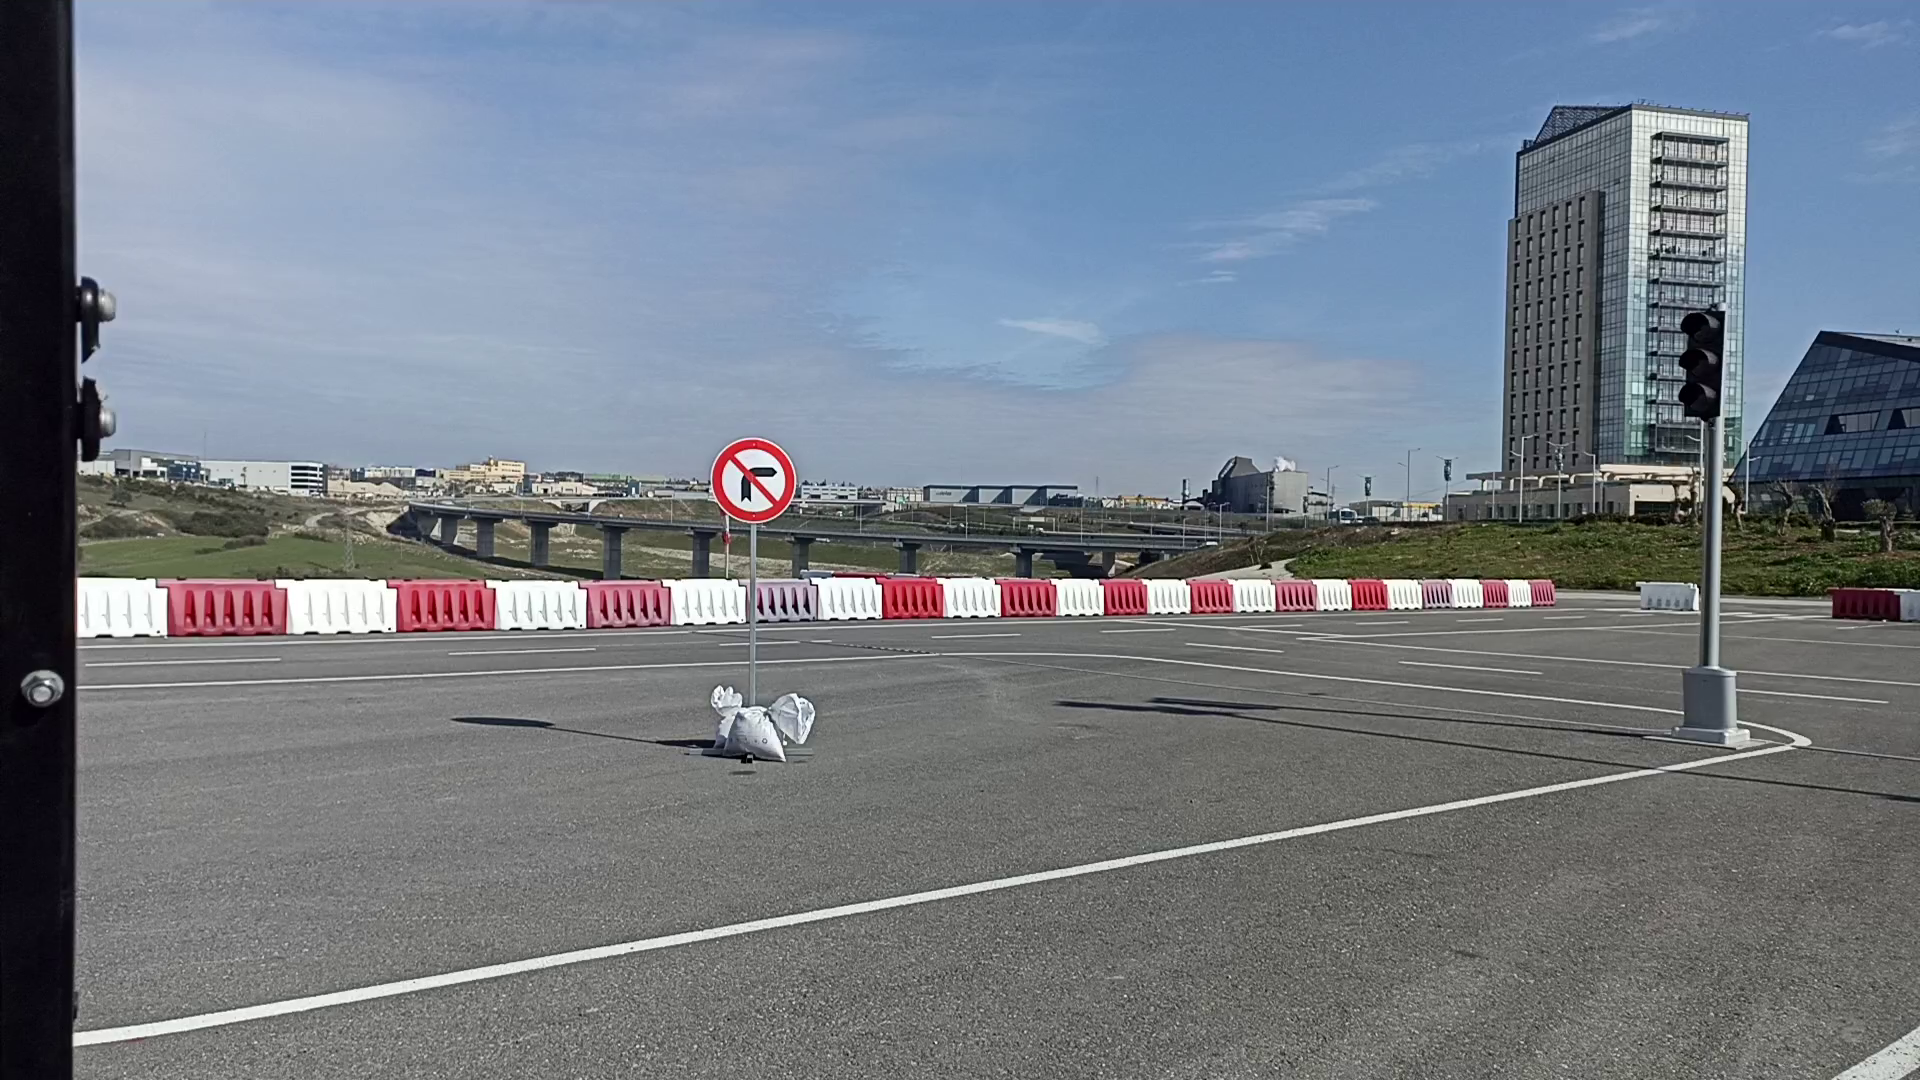noleftturn: (708, 434, 799, 525)
trafficlight: (1675, 305, 1727, 421)
